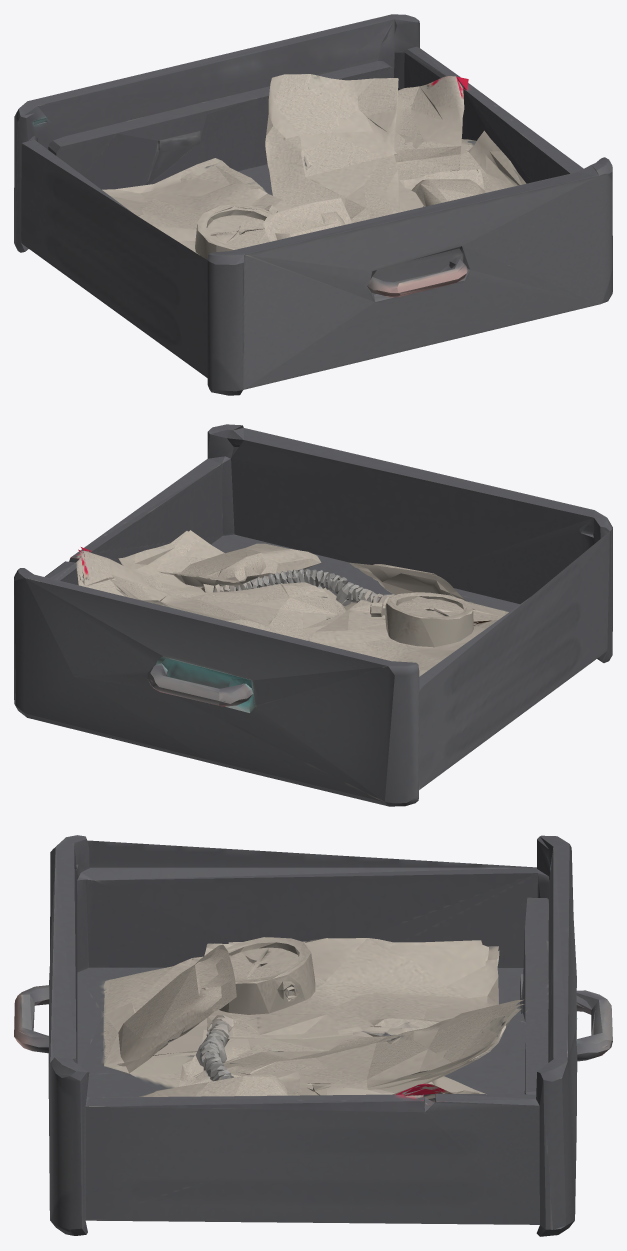
The picture shows the model from 3 angles, top to bottom: view 1: azimuth 30°, elevation 25°; view 2: azimuth 150°, elevation 25°; view 3: azimuth 270°, elevation 25°; orthographic projection. The views are drawn at different scales.
Bounding box in the file's own units: 1.8 × 0.5968 × 1.9.
Materials: 1 (1 with a texture image).
